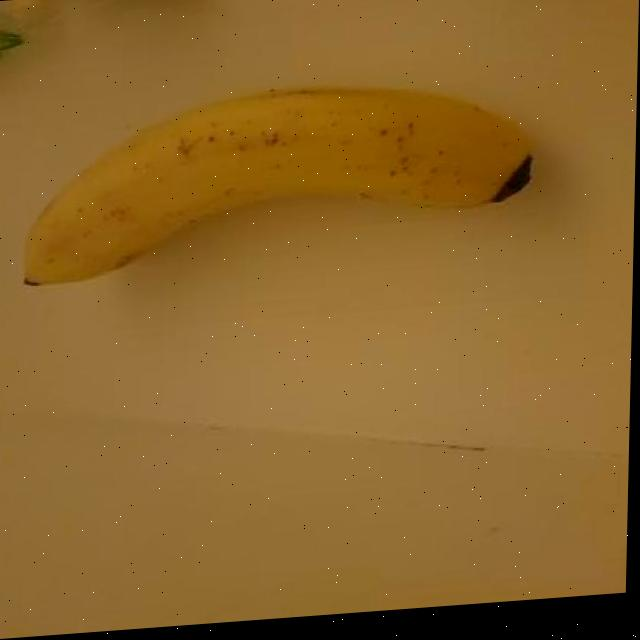banana: (13, 67, 543, 292)
